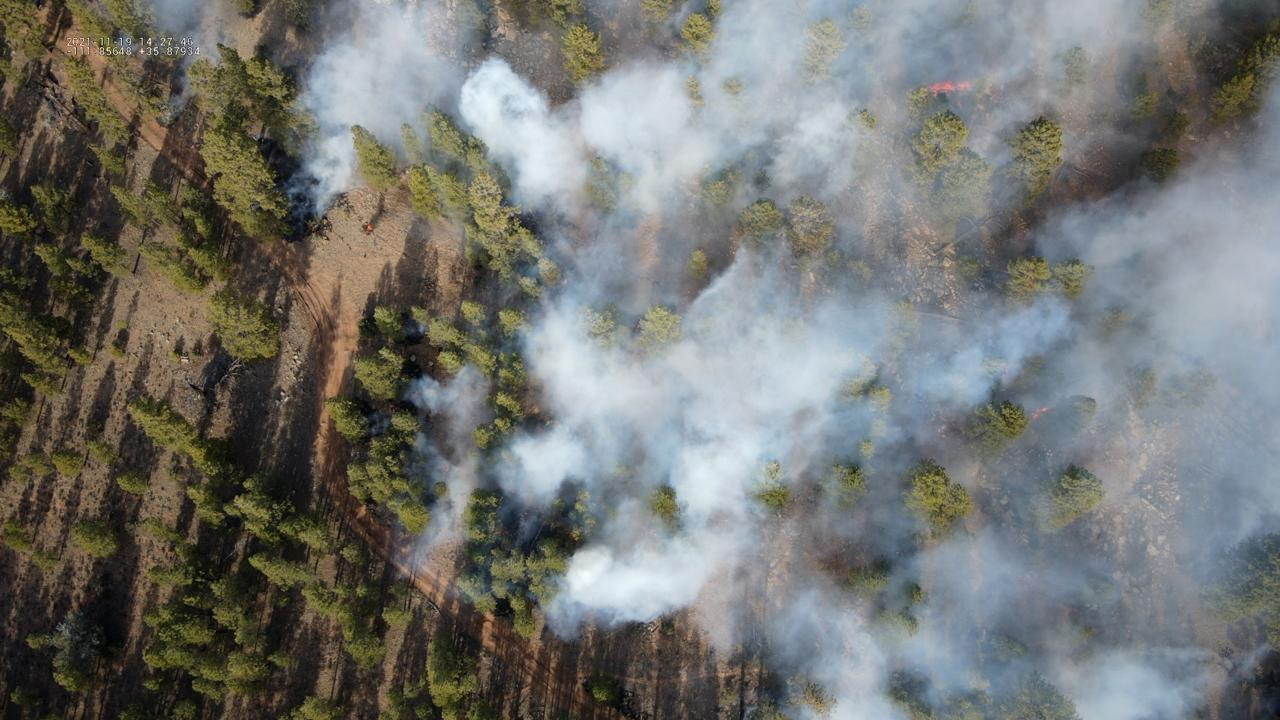fire: (927, 79, 973, 99), (1028, 406, 1052, 419), (365, 223, 374, 231), (652, 530, 659, 540)
smoke: (275, 0, 1280, 720), (114, 0, 223, 112)
